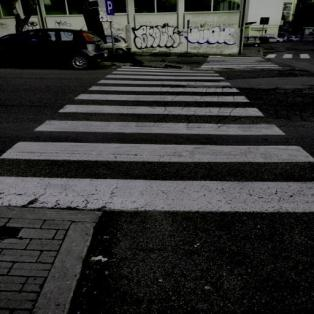Paso de Cebra: (27, 106, 291, 140), (84, 78, 241, 94)
